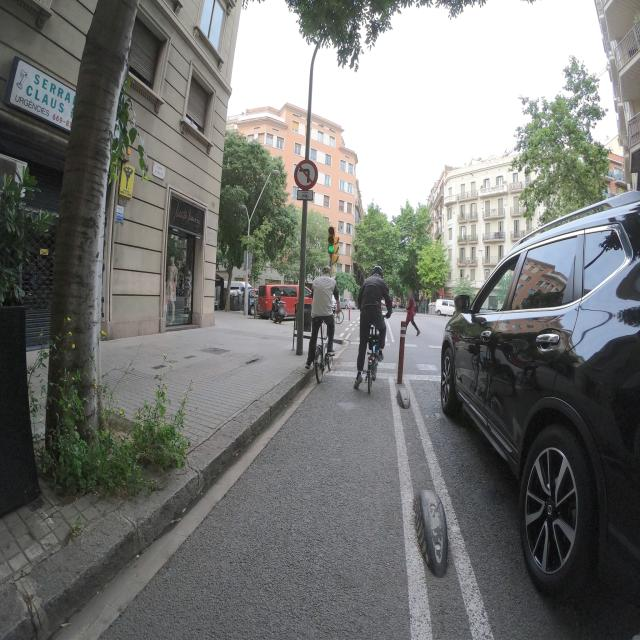bike: (353, 302, 390, 396), (307, 302, 339, 386)
car: (439, 186, 640, 610), (271, 283, 309, 324), (253, 282, 290, 320), (228, 279, 256, 310), (432, 299, 456, 316), (398, 298, 406, 310), (392, 297, 400, 309), (348, 300, 357, 310)
